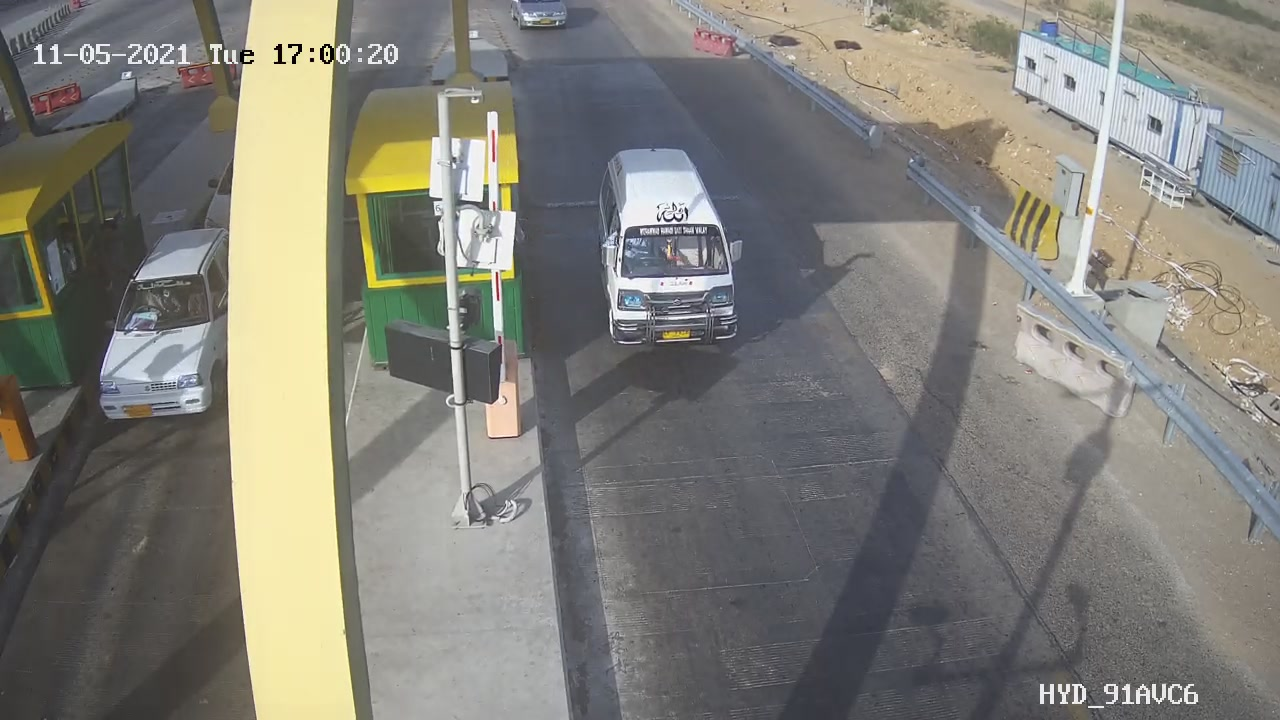F1: (576, 130, 766, 375)
